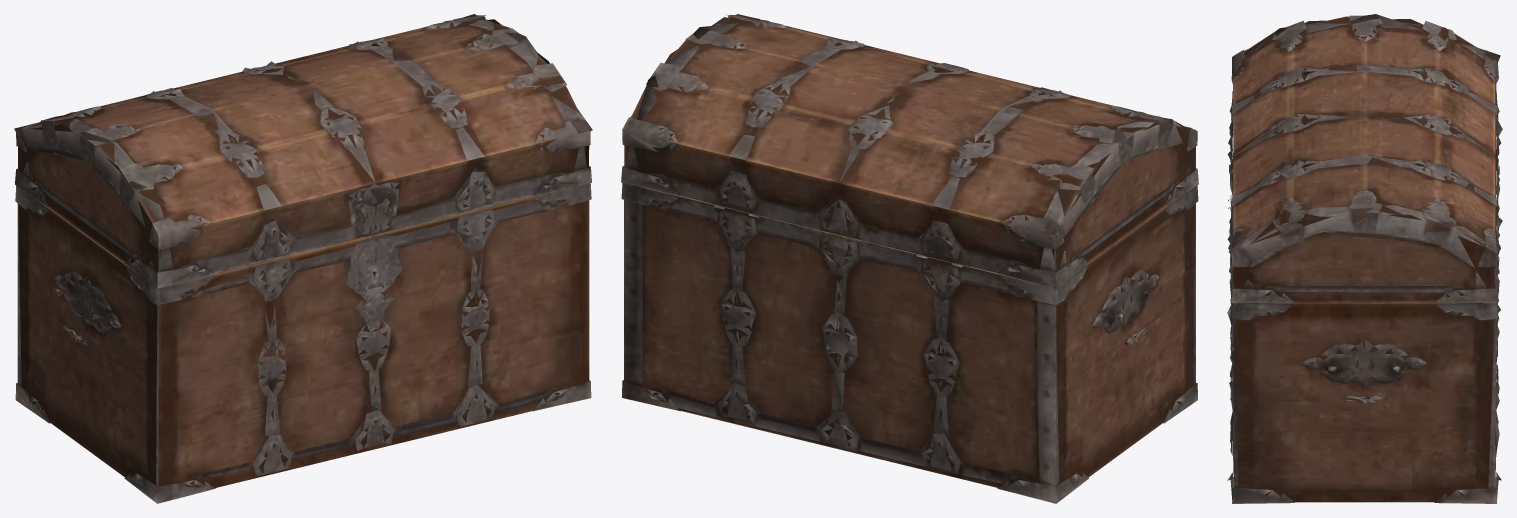
The model's file is treasure_chest.glb.
3 renders of one model, left to right at view 1: azimuth 30°, elevation 25°; view 2: azimuth 150°, elevation 25°; view 3: azimuth 270°, elevation 25°, orthographic. The views are drawn at different scales.
Parts seen in each view (by area): view 1: treasure_chest_bottom; view 2: treasure_chest_bottom; view 3: treasure_chest_bottom.
Boxes of the visible parts, x1,y1,x2,y2 form: treasure_chest_bottom: (14, 14, 592, 503); treasure_chest_bottom: (621, 14, 1198, 503); treasure_chest_bottom: (1227, 14, 1502, 503).
Bounding box in the file's own units: 0.948 × 0.624 × 0.5275.
Materials: 1 (1 with a texture image).
